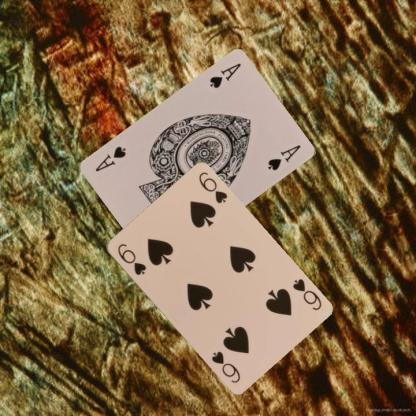6s: (114, 240, 148, 277), (289, 276, 323, 312)
As: (207, 61, 243, 90)
